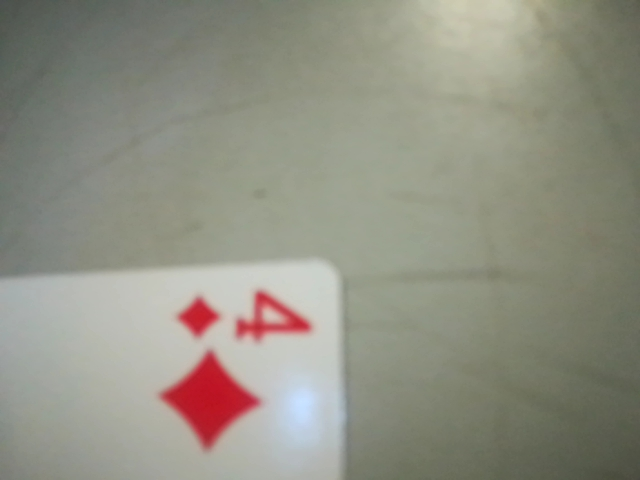fk 4: (153, 280, 326, 359)
